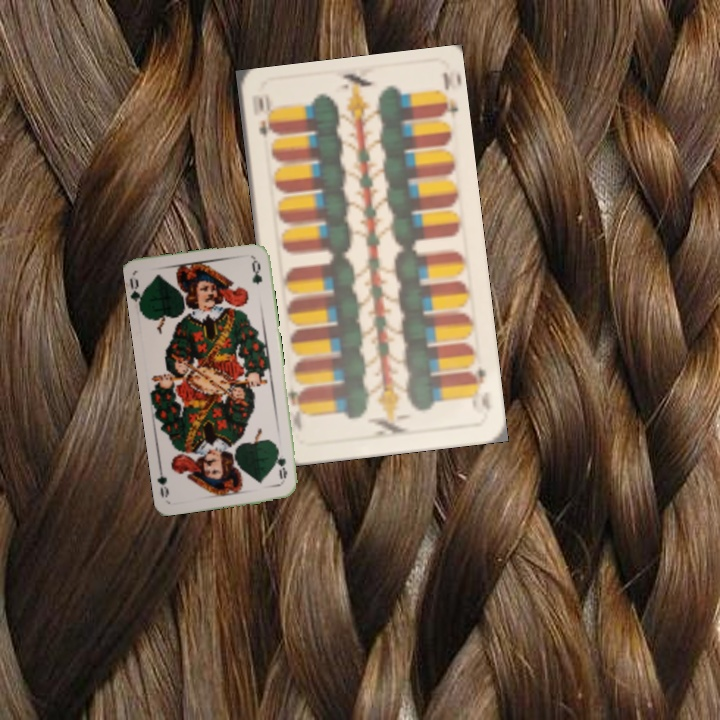E10: (254, 91, 276, 138), (465, 363, 489, 398)
GO: (127, 274, 148, 313), (272, 444, 290, 481)
